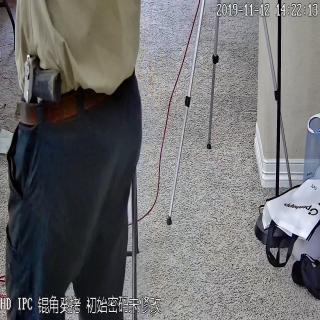gun: (23, 50, 61, 111)
